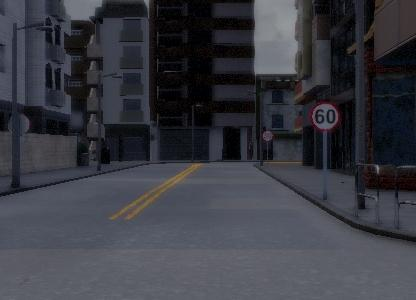Speed_60: (310, 98, 342, 134)
